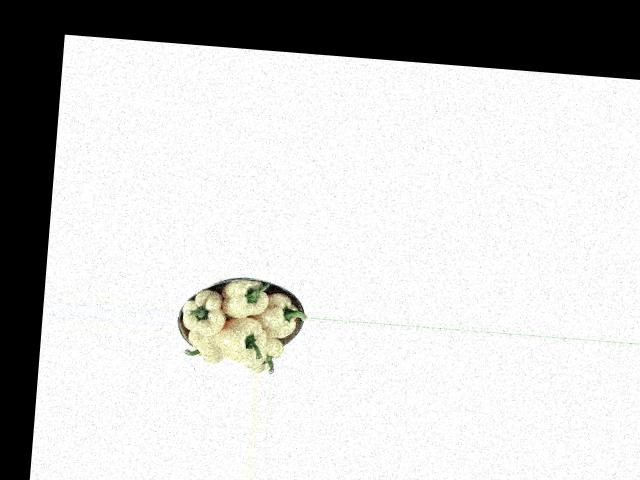bell_pepper: (244, 331, 289, 374)
